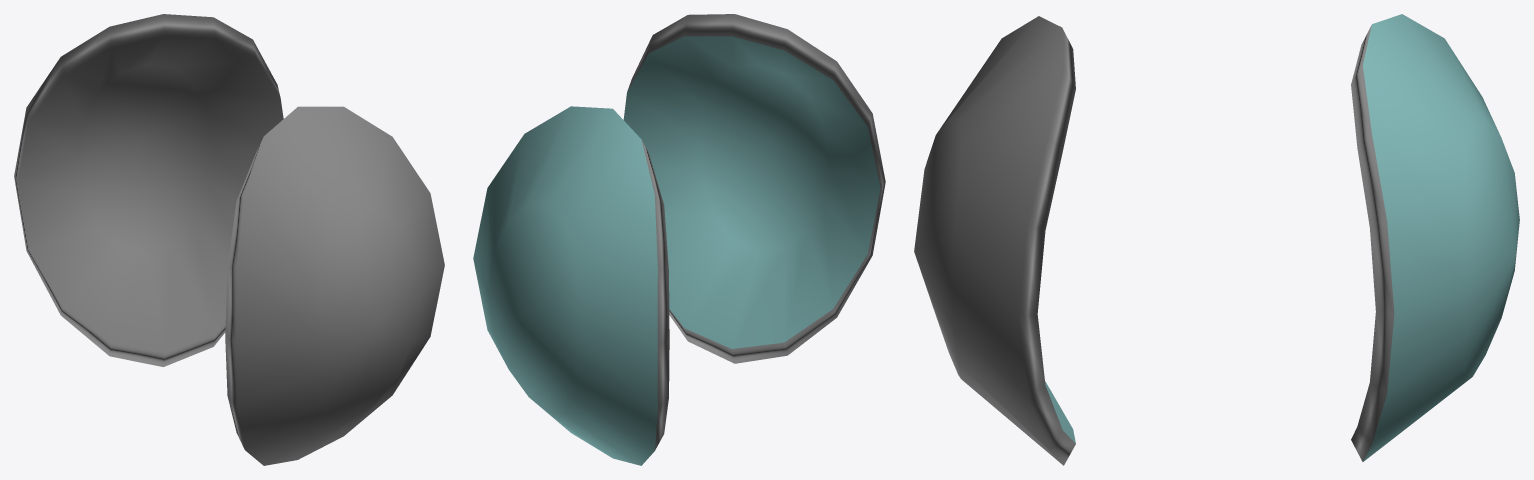
The model's file is level3.fbx.
3 views of the same model, side by side, from view 1: azimuth 30°, elevation 25°; view 2: azimuth 150°, elevation 25°; view 3: azimuth 270°, elevation 25° (orthographic). The views are drawn at different scales.
Parts seen in each view (by area): view 1: convex, concave; view 2: concave, convex; view 3: convex, concave.
Part boxes in pixels (left/top/right/bottom): convex: left=14, top=14, right=283, bottom=366; concave: left=225, top=106, right=444, bottom=465; concave: left=623, top=14, right=885, bottom=363; convex: left=473, top=106, right=669, bottom=465; convex: left=1351, top=14, right=1519, bottom=461; concave: left=914, top=16, right=1075, bottom=465.
Bounding box in the file's own units: 14.79 × 20.9 × 26.99.
